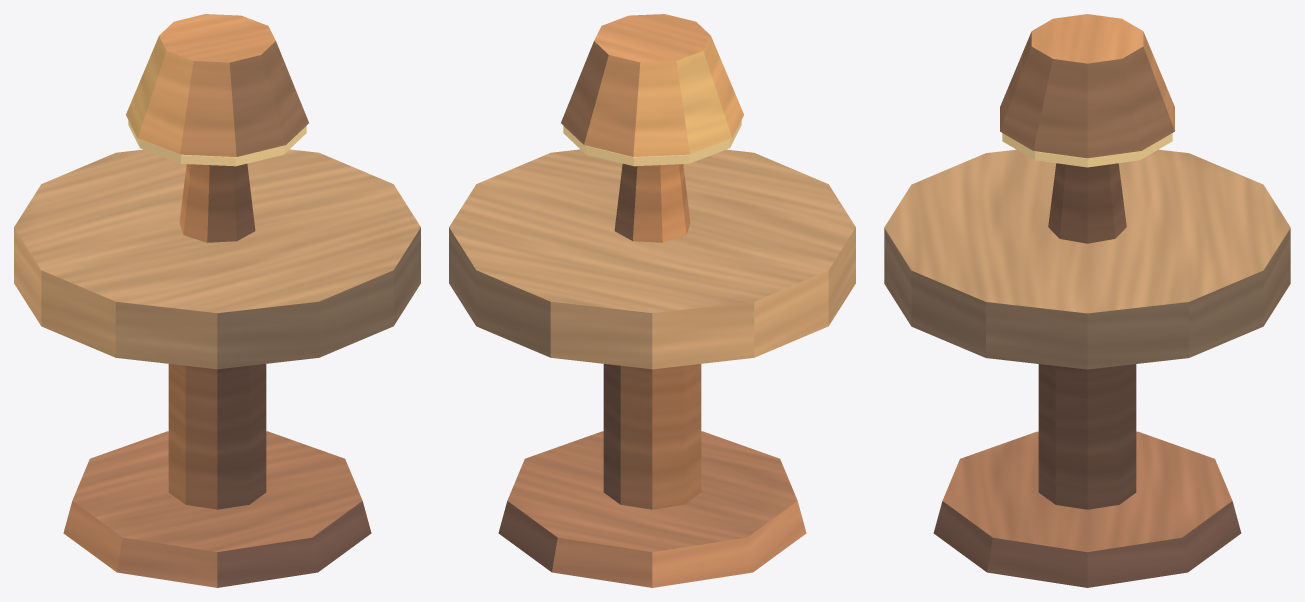
Rendered from furniture_copper_lamp.glb.
3 renders of one model, left to right at view 1: azimuth 30°, elevation 25°; view 2: azimuth 150°, elevation 25°; view 3: azimuth 270°, elevation 25°, orthographic.
Parts seen in each view (by area): view 1: Kupferlampentisch; view 2: Kupferlampentisch; view 3: Kupferlampentisch.
Part boxes in pixels (left/top/right/bottom): Kupferlampentisch: left=14, top=14, right=420, bottom=587; Kupferlampentisch: left=449, top=14, right=855, bottom=587; Kupferlampentisch: left=884, top=14, right=1290, bottom=587.
Bounding box in the file's own units: 0.9 × 1.18 × 0.9.
2 materials, 1 textured.
